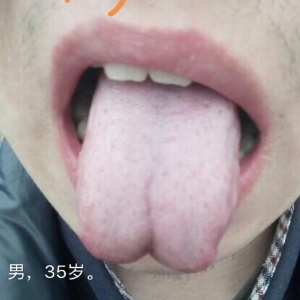st: (81, 104, 243, 274)
